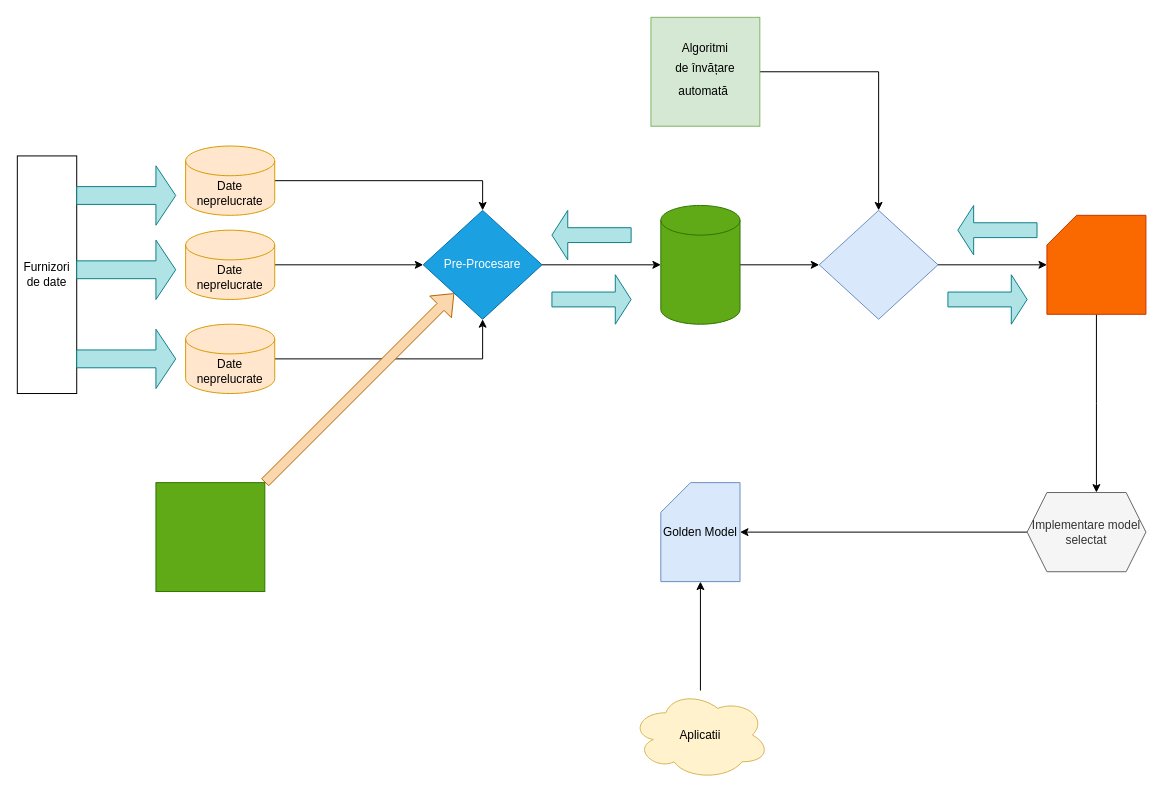
This 1163x797 diagram has some shape labels left out. The centre of each missing label's shape, as x and y in pixels:
Algoritm de învățare: point (878, 264)
Candidate Model: point (1096, 264)
Date structurate: point (700, 264)
Instrumente de prelucrare a datelor: point (210, 537)
